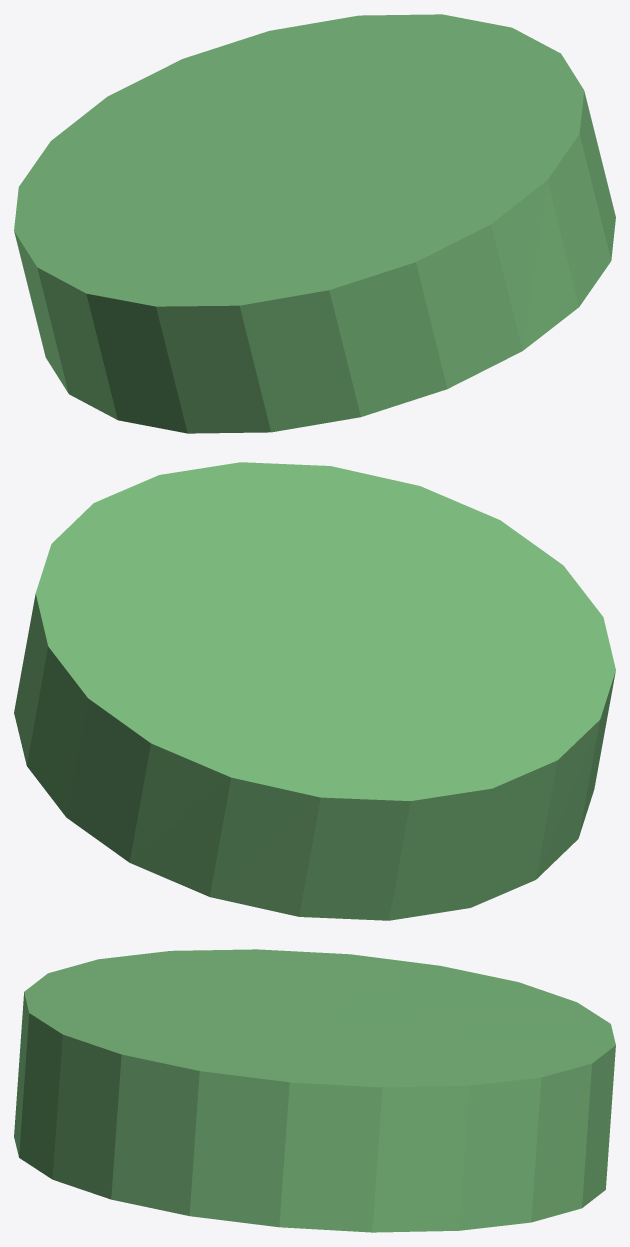
Rendered from Lysosome.glb.
3 renders of one model, top to bottom at view 1: azimuth 30°, elevation 25°; view 2: azimuth 150°, elevation 25°; view 3: azimuth 270°, elevation 25°, orthographic.
Parts seen in each view (by area): view 1: Mesh_Mesh_head_geo.001_lambert2SG.001; view 2: Mesh_Mesh_head_geo.001_lambert2SG.001; view 3: Mesh_Mesh_head_geo.001_lambert2SG.001.
Boxes of the visible parts, x1,y1,x2,y2 form: Mesh_Mesh_head_geo.001_lambert2SG.001: [14, 14, 615, 433]; Mesh_Mesh_head_geo.001_lambert2SG.001: [14, 462, 615, 920]; Mesh_Mesh_head_geo.001_lambert2SG.001: [14, 949, 615, 1232].
Bounding box in the file's own units: 2.05 × 0.926 × 2.02.
